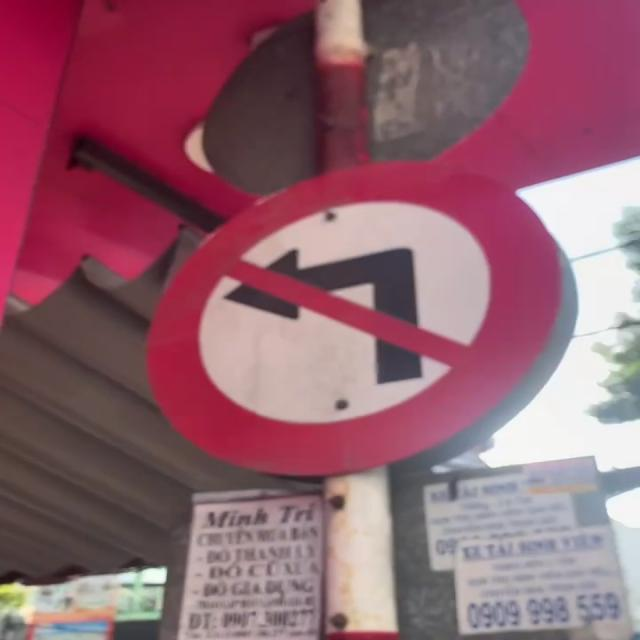Cam_Re_Trai: (144, 160, 575, 477)
